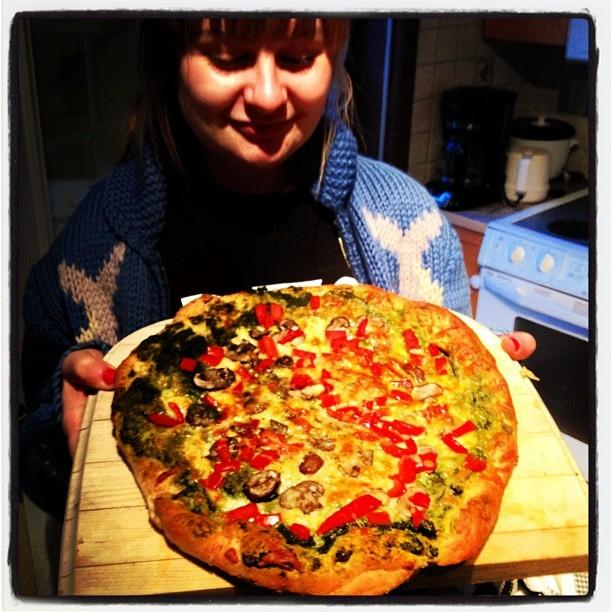bell pepper: (315, 494, 382, 536), (146, 402, 184, 428), (253, 302, 284, 331), (258, 550, 302, 570), (369, 422, 404, 444), (216, 503, 260, 520), (196, 470, 228, 492), (343, 336, 374, 358), (249, 450, 280, 471), (242, 512, 282, 528), (390, 419, 426, 436), (398, 454, 418, 484), (440, 433, 468, 454), (277, 325, 305, 345), (200, 346, 225, 367), (387, 438, 417, 454), (288, 417, 316, 434), (388, 474, 408, 497), (401, 328, 420, 352), (216, 438, 234, 463), (451, 420, 476, 437), (464, 454, 487, 472), (234, 366, 257, 384), (290, 374, 315, 390), (384, 363, 409, 379), (288, 522, 310, 540), (408, 492, 430, 510), (212, 460, 243, 472), (317, 377, 333, 400), (262, 335, 278, 358), (200, 393, 222, 409), (366, 511, 391, 525), (335, 406, 364, 418), (254, 358, 274, 375), (292, 358, 316, 372), (412, 508, 428, 527), (238, 446, 256, 462), (292, 349, 316, 361), (417, 451, 438, 464), (358, 412, 380, 424), (369, 362, 386, 377), (356, 317, 368, 338), (178, 358, 197, 371), (390, 390, 414, 400), (246, 434, 262, 448), (374, 392, 388, 406), (245, 419, 260, 431), (448, 358, 457, 378), (325, 330, 346, 338), (232, 380, 245, 392), (429, 342, 439, 357), (267, 382, 279, 394), (310, 296, 320, 310), (322, 369, 332, 378), (364, 401, 373, 410)
mushroom: (279, 480, 325, 515), (243, 469, 282, 502), (396, 486, 427, 518), (193, 368, 236, 391), (224, 339, 260, 364), (204, 436, 240, 460), (186, 404, 220, 428), (411, 383, 444, 404), (243, 391, 265, 414), (310, 437, 336, 451), (326, 316, 351, 330), (278, 318, 300, 332), (270, 420, 288, 434), (275, 355, 294, 368), (260, 374, 280, 386)
